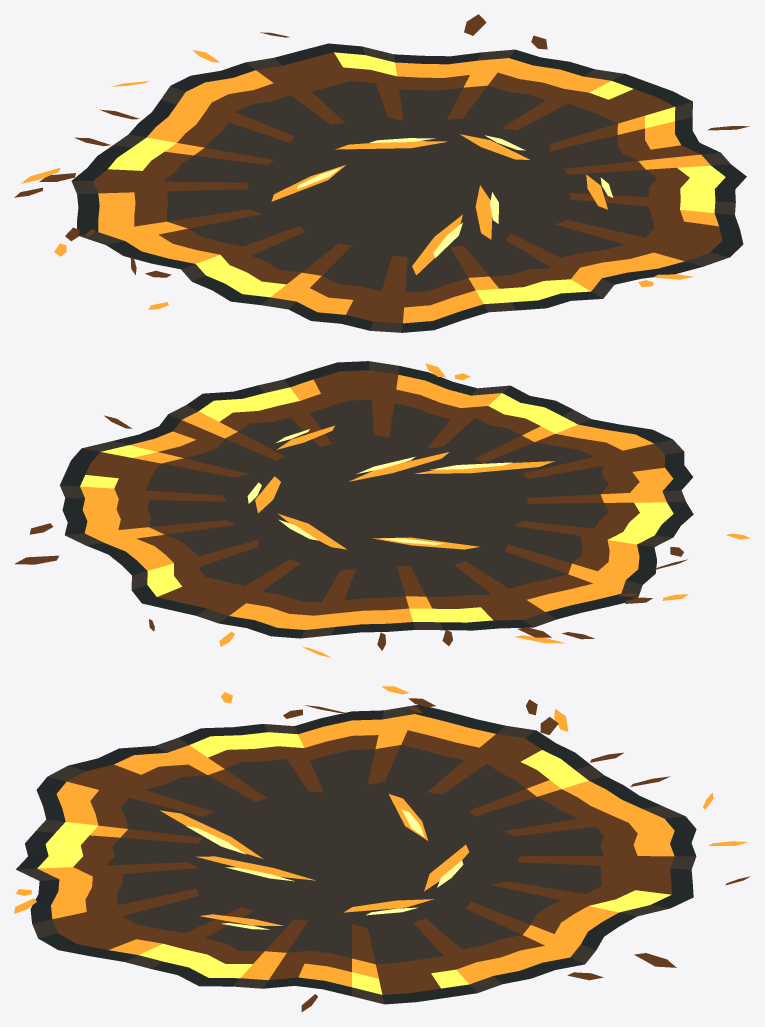
File: e4-ground-slag-decal.glb
3 views of the same model, one above another, from view 1: azimuth 30°, elevation 25°; view 2: azimuth 150°, elevation 25°; view 3: azimuth 270°, elevation 25° (orthographic). The views are drawn at different scales.
Visible parts, largest first — view 1: E4 Ground slag decal; view 2: E4 Ground slag decal; view 3: E4 Ground slag decal.
Boxes of the visible parts, <box> form: E4 Ground slag decal: <box>14,14,749,332</box>; E4 Ground slag decal: <box>15,361,750,657</box>; E4 Ground slag decal: <box>14,686,750,1011</box>.
Size of the model in its own units: 1.06 by 0.0013 by 1.01.
